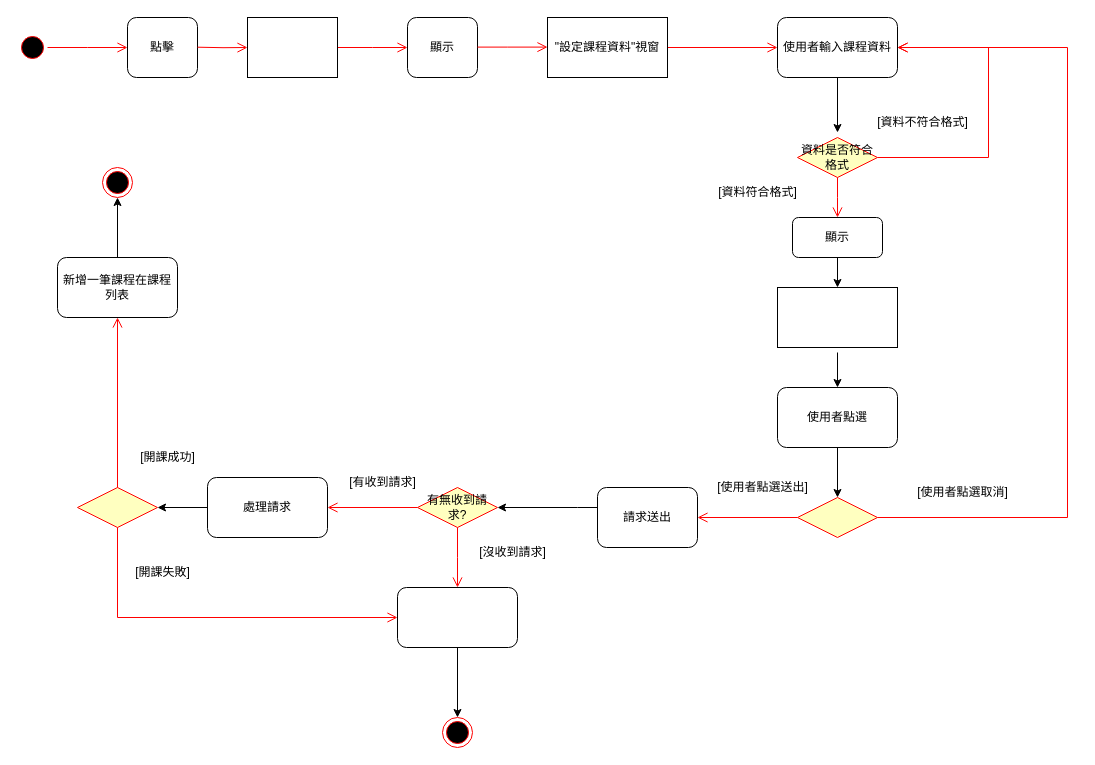
The diagram is 1095 pixels wide and 765 high, and some of its shapes have lost their labels. Here are the shapes that lost their labels. From the top down, the centre of each, then its label:
(x=292, y=47): <新增課程按鈕>
(x=837, y=317): "確認送出課程資料? "視窗
(x=117, y=507): 開課是否成功?
(x=837, y=517): "送出"or"取消"
(x=457, y=617): 發送開課失敗訊息
